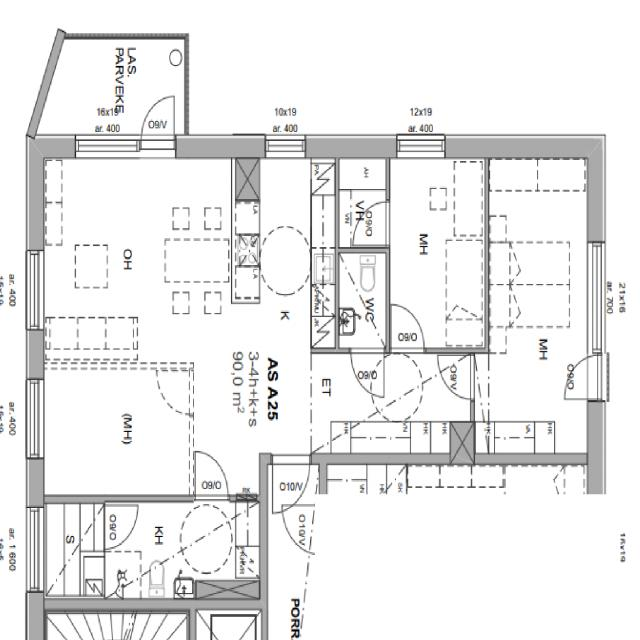door: (140, 90, 174, 158), (272, 453, 308, 511), (556, 357, 604, 400), (195, 450, 229, 499), (353, 202, 390, 246), (437, 356, 474, 400), (391, 304, 424, 353), (351, 347, 383, 396), (104, 506, 138, 550)
